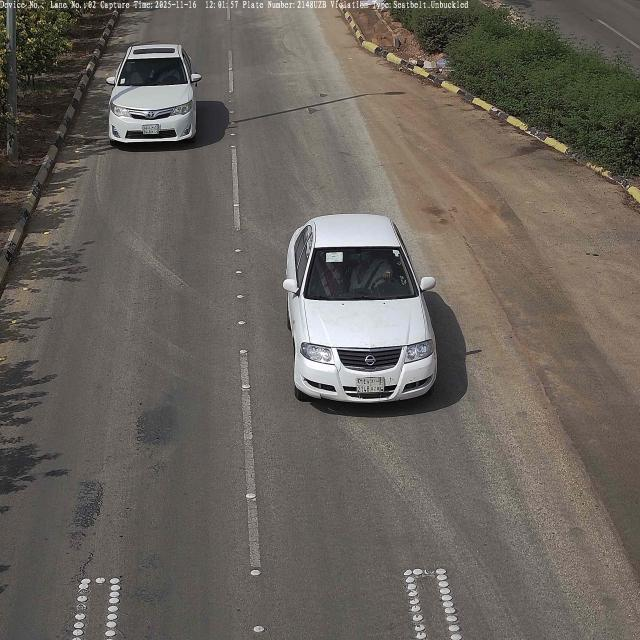person_with_seatbelt: (348, 243, 398, 298)
